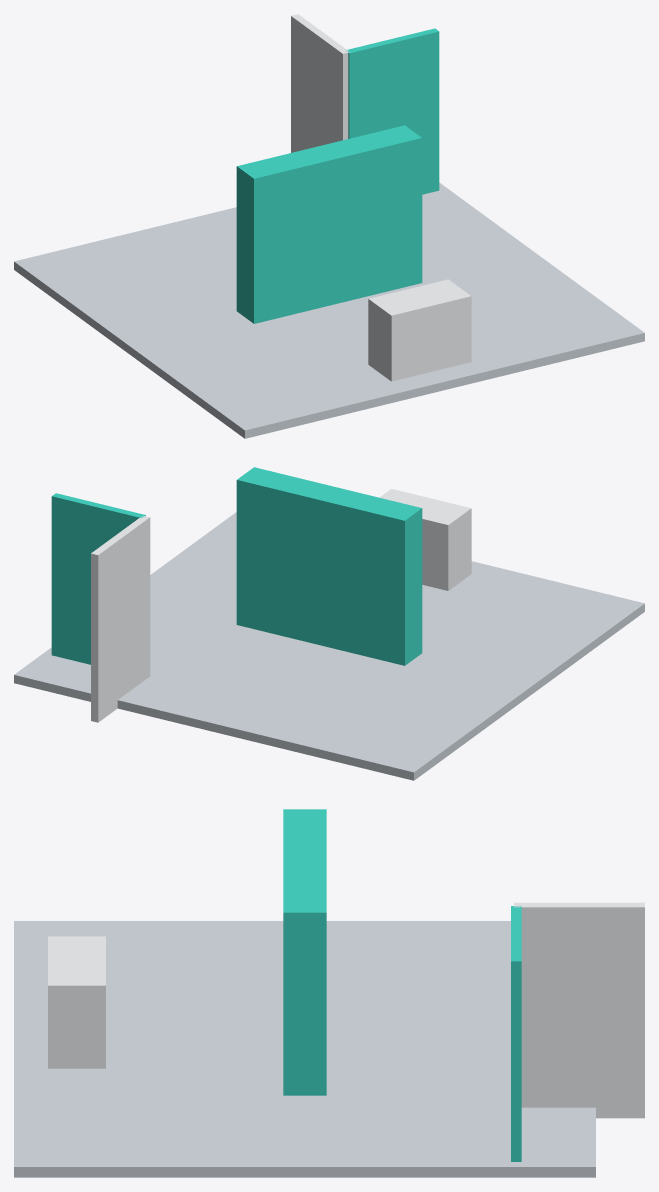
3 renders of one model, top to bottom at view 1: azimuth 30°, elevation 25°; view 2: azimuth 150°, elevation 25°; view 3: azimuth 270°, elevation 25°, orthographic. The views are drawn at different scales.
Parts seen in each view (by area): view 1: Exhibition Booth Concept; view 2: Exhibition Booth Concept; view 3: Exhibition Booth Concept.
Boxes of the visible parts, bbox=[...] form: Exhibition Booth Concept: bbox=[14, 14, 644, 438]; Exhibition Booth Concept: bbox=[14, 467, 644, 780]; Exhibition Booth Concept: bbox=[14, 809, 644, 1177].
Bounding box in the file's own units: 6 × 2.4 × 6.51.
